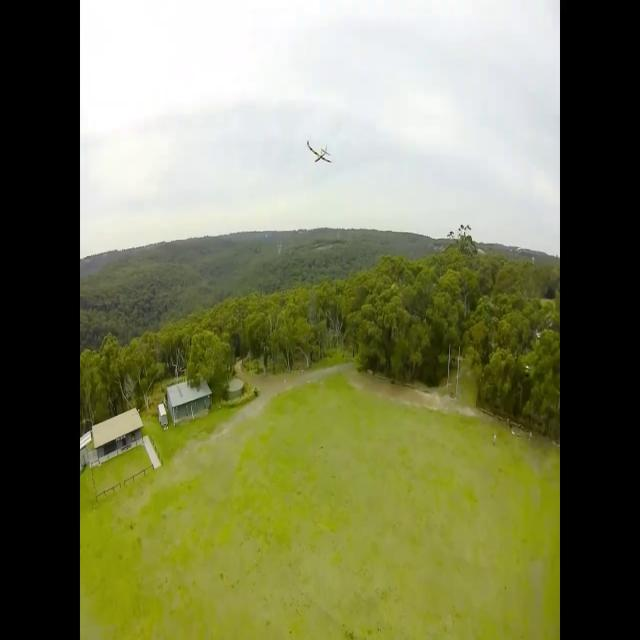iha: (306, 138, 333, 164)
